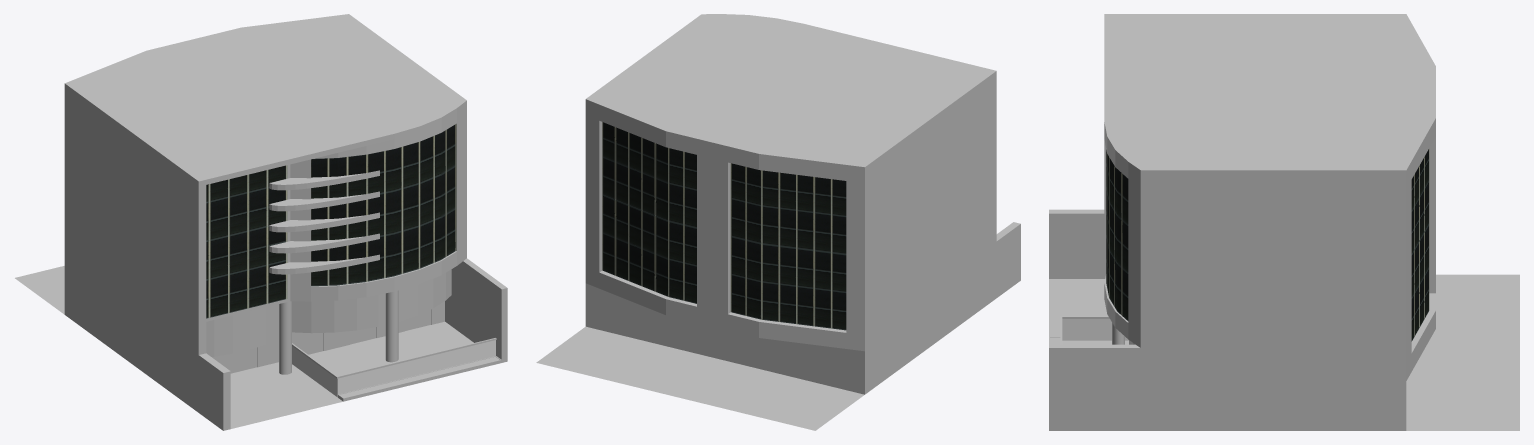
The picture shows the model from 3 angles, left to right: view 1: azimuth 30°, elevation 25°; view 2: azimuth 150°, elevation 25°; view 3: azimuth 270°, elevation 25°; orthographic projection. The views are drawn at different scales.
Visible parts, largest first — view 1: BB-048; view 2: BB-048; view 3: BB-048.
Boxes of the visible parts, left/top/right/bottom form: BB-048: left=15, top=14, right=507, bottom=430; BB-048: left=536, top=14, right=1020, bottom=430; BB-048: left=1049, top=14, right=1519, bottom=430.
Size of what is drawn, in the model's own units: 28.27 by 22 by 36.
